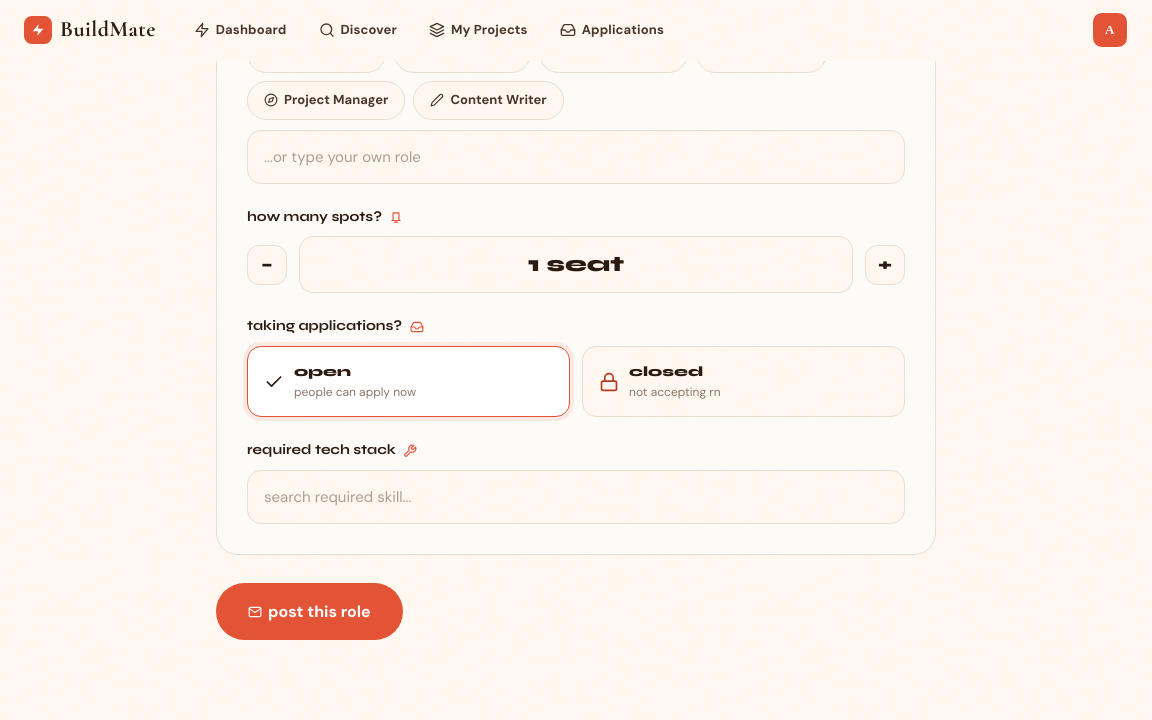
Test: CreateOpportunity - Creation Mode › handles searching and selecting skills
The width and height of the screenshot is (1152, 720).
(page scrolled)
Type "Rea" into the field with placeholder "search required skill...". click: coordinates (576, 497)
box: [247,470,905,524]
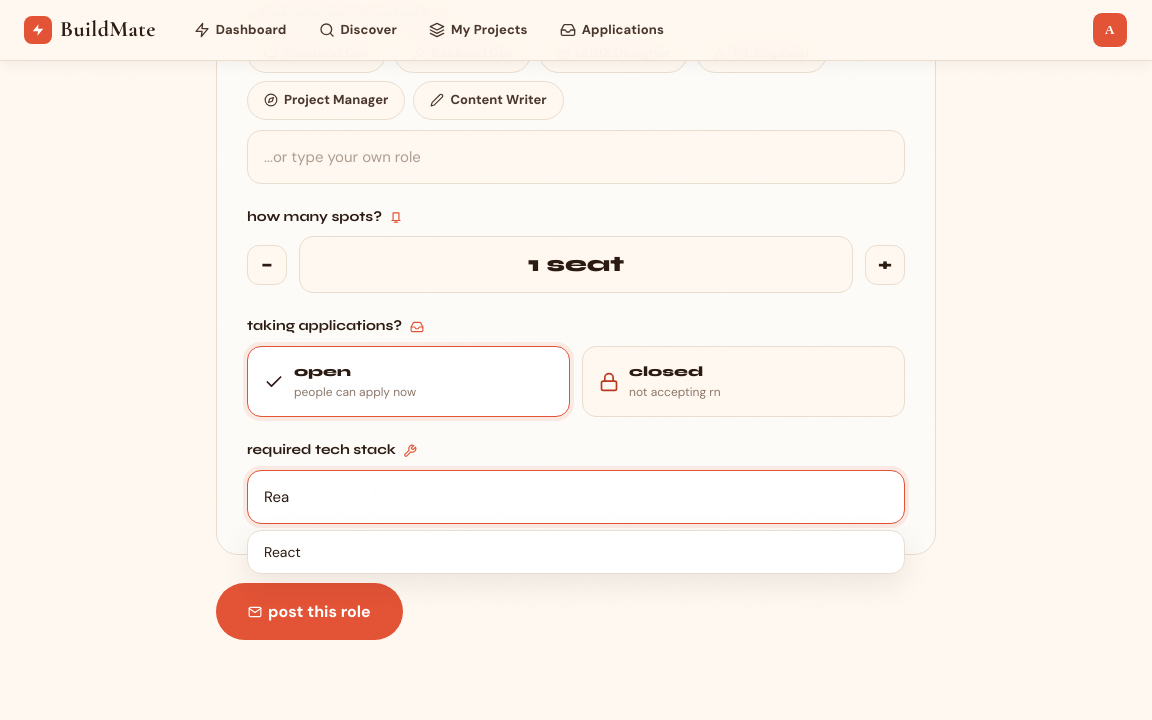
Click the text "React". click: coordinates (282, 552)
box: [264,543,301,561]
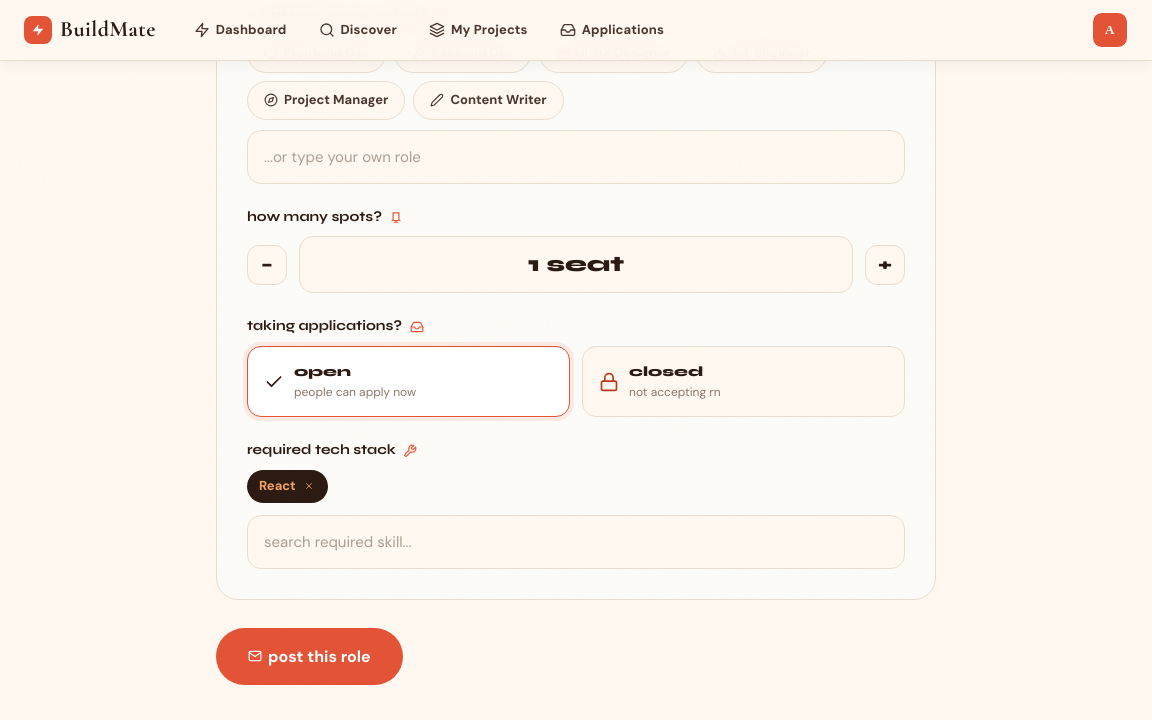
Check: the text "React" is shown, box [247,470,328,503]
Check: the field with placeholder "search required skill..." is empty, box [247,515,905,569]
